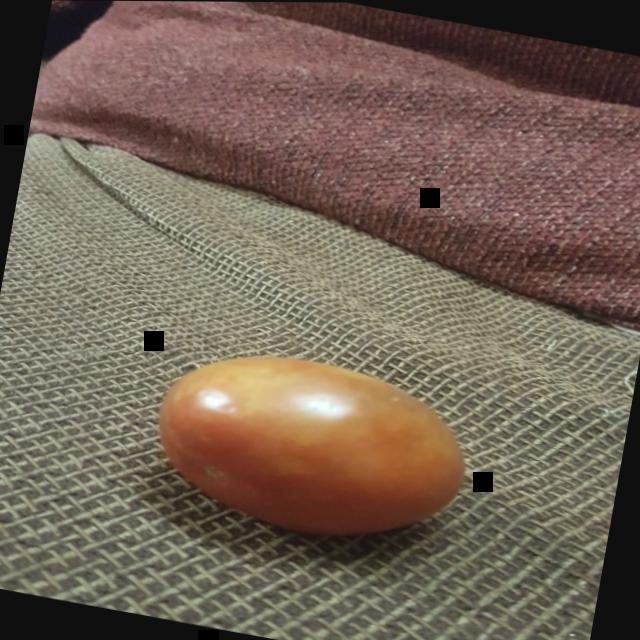tomato: (132, 322, 490, 570)
